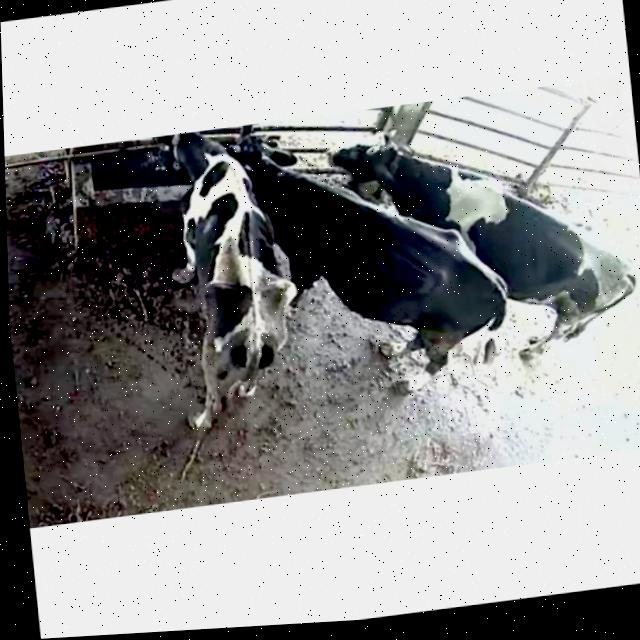drink: (226, 120, 313, 210), (146, 126, 237, 204)
